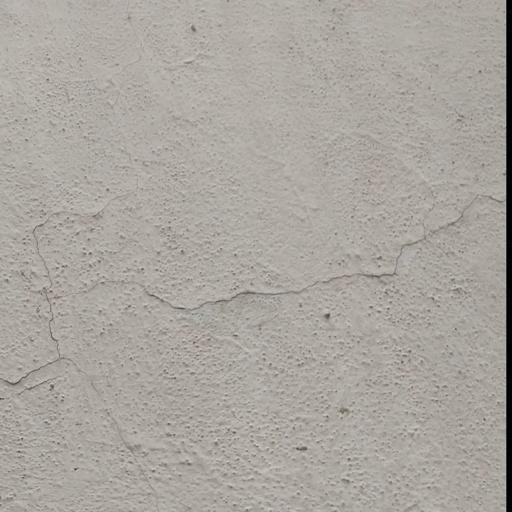minor_crack: (1, 173, 504, 389)
